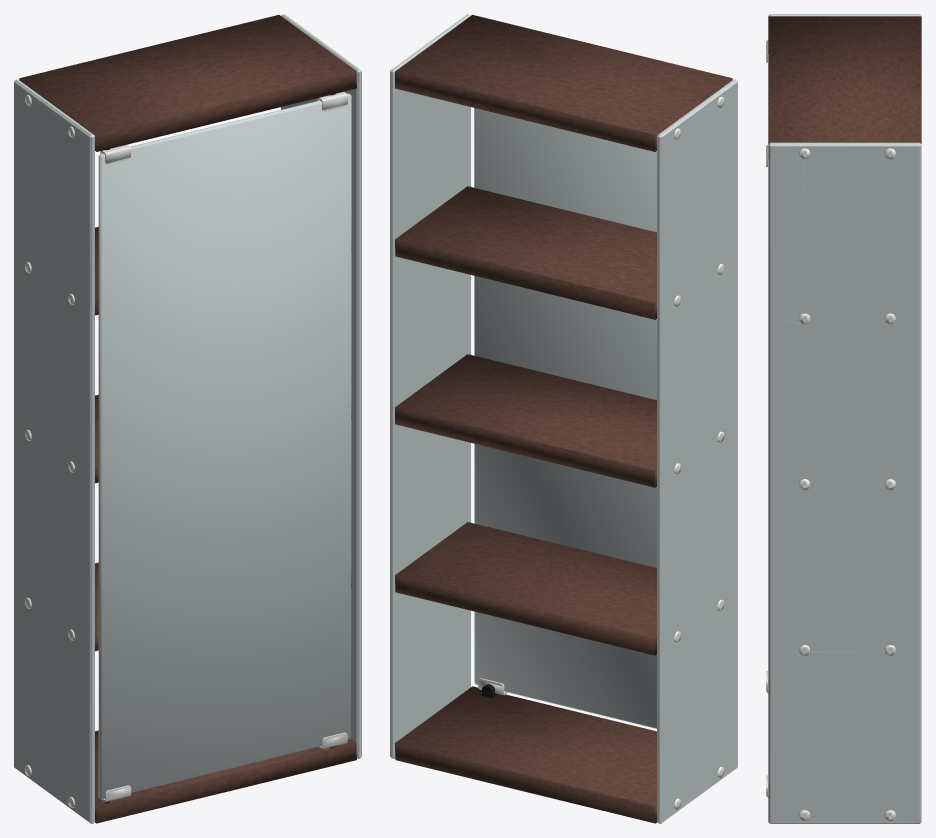
The model's file is display_case.glb.
3 views of the same model, side by side, from view 1: azimuth 30°, elevation 25°; view 2: azimuth 150°, elevation 25°; view 3: azimuth 270°, elevation 25° (orthographic).
Parts seen in each view (by area): view 1: display_case; view 2: display_case; view 3: display_case.
Part boxes in pixels (<box>): display_case: <box>14,14,361,823</box>; display_case: <box>390,14,737,823</box>; display_case: <box>766,14,921,823</box>.
Size of the model in its own units: 0.418 by 0.9997 by 0.2069.
Materials: 6 (1 with a texture image).
